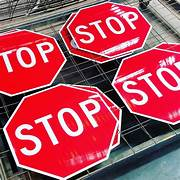stop: (5, 86, 123, 180), (70, 1, 150, 55)
